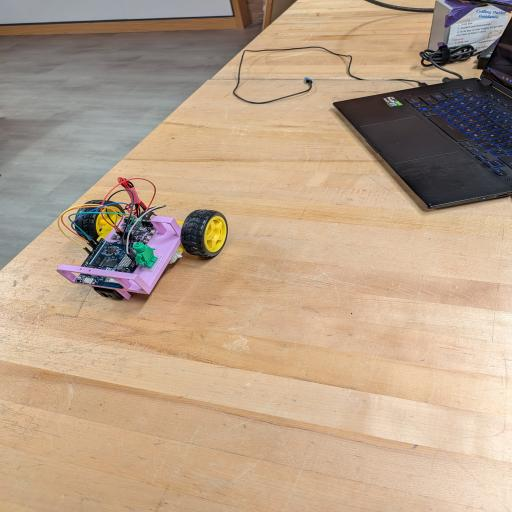Minifig: (133, 242, 158, 268)
